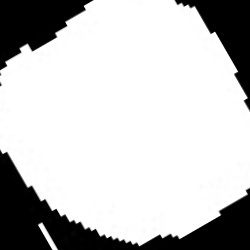crack: (38, 223, 57, 248)
spot: (1, 1, 248, 247)
